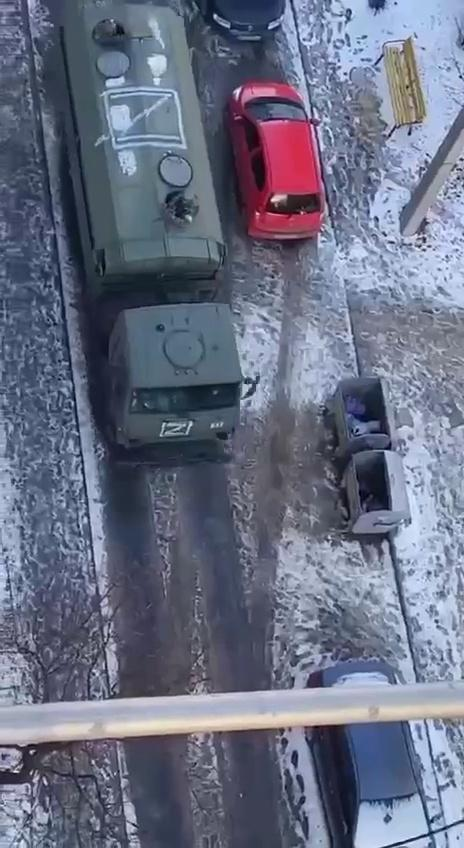car: (227, 82, 326, 243)
truck: (54, 0, 259, 465)
